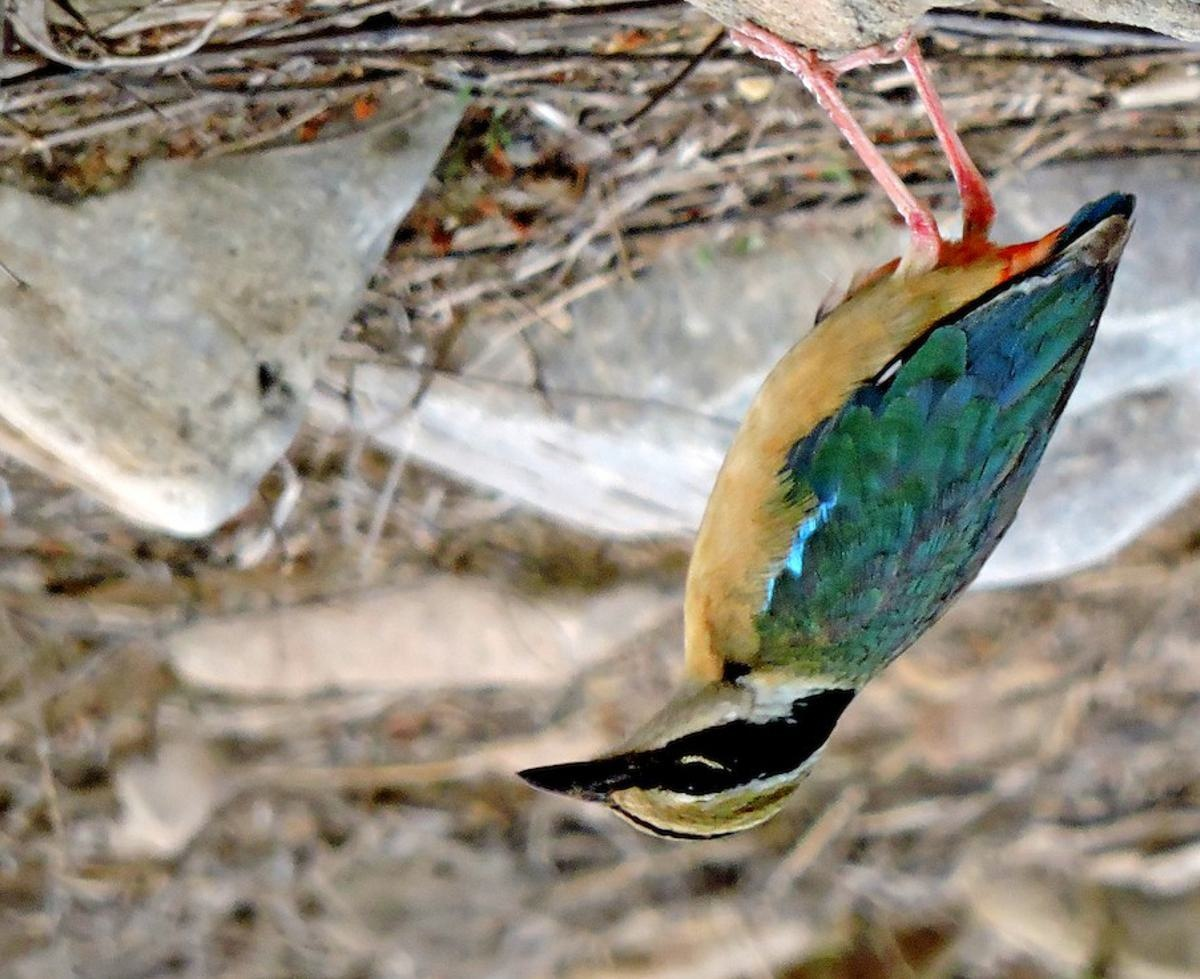pitta: (492, 81, 1147, 907)
